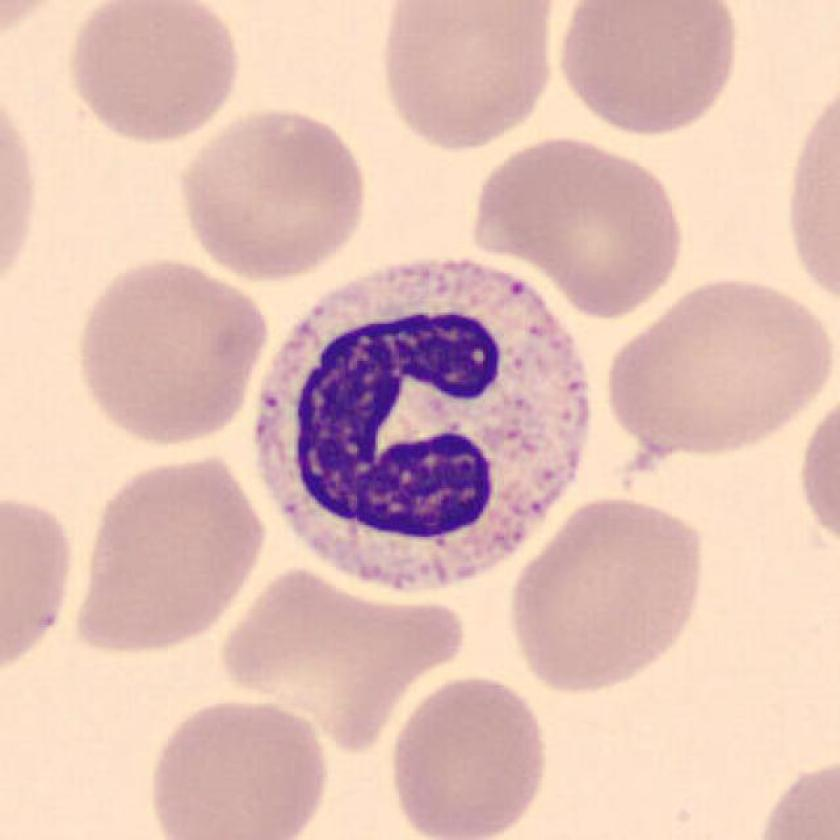neutrophil: (256, 261, 588, 586)
